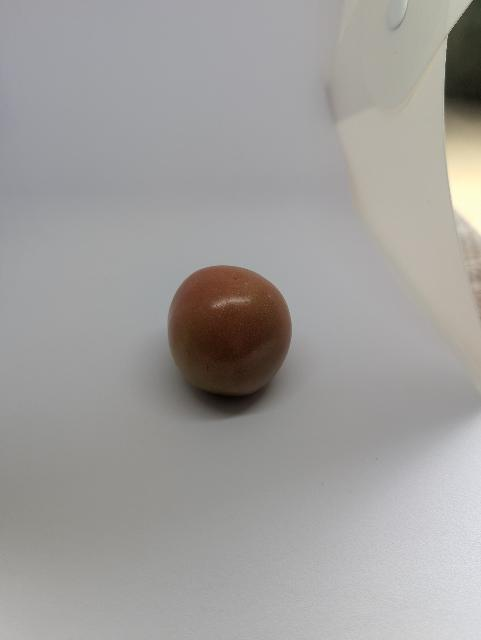red: (159, 258, 303, 406)
